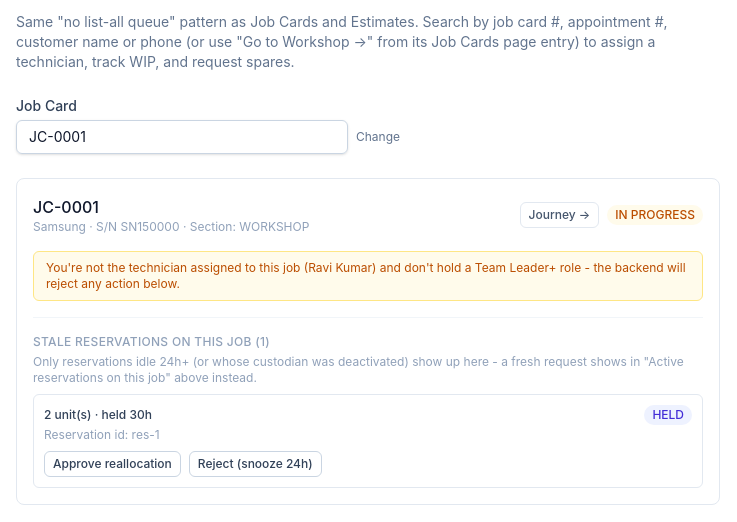
Scenario: WorkshopPage - capability gating (2026-09-14: converted from hardcoded role arrays) › tells a reviewer without INVENTORY_STAFF that an Inventory Clerk still needs to confirm it
Click the button "Approve reallocation": (112, 464) [44, 451, 181, 477]
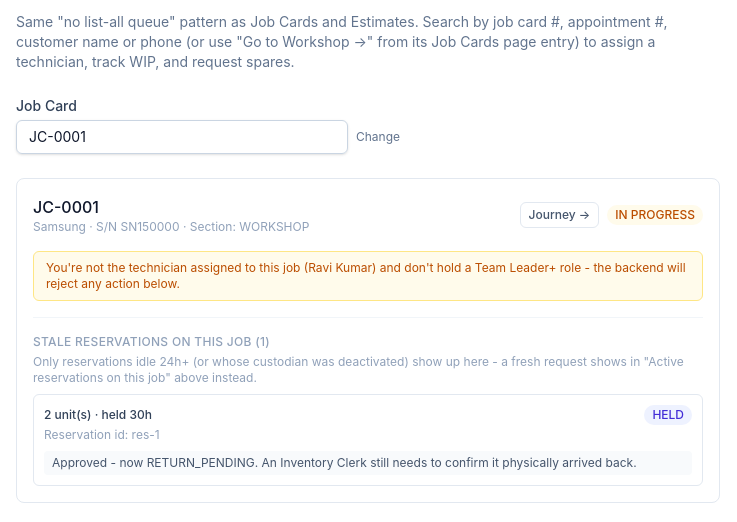
Expected: the text "An Inventory Clerk still needs to confirm it physically arrived back" is shown, [262, 455, 637, 470]
